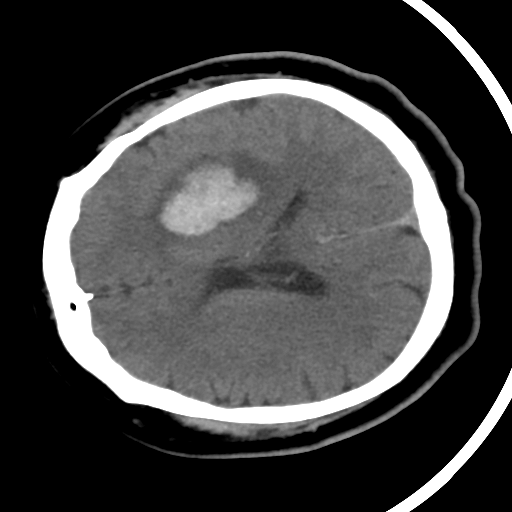a: (132, 131, 285, 253)
